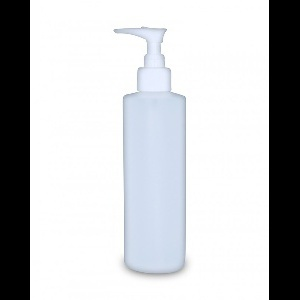emptybottle: (113, 28, 188, 274)
